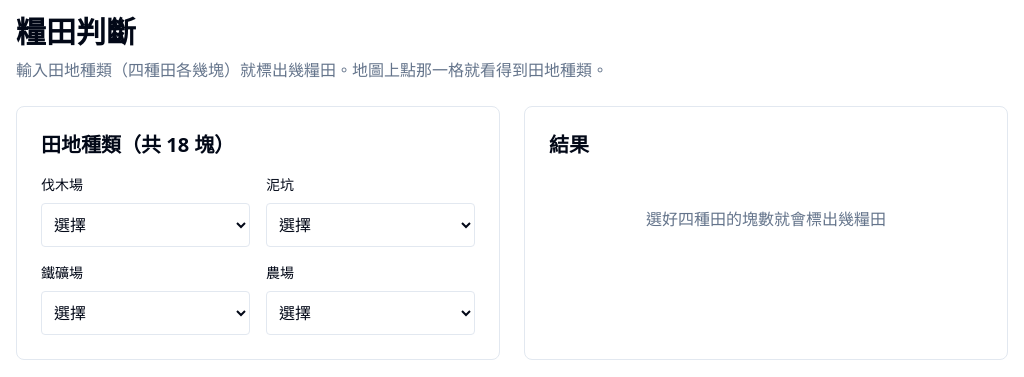
Test case: 糧田判斷（以前的「首都類型反推」，稽核 2026-10-10） › [3,3,3,9] → 9 糧田
Select "3 塊" in the dropdown with test id "wood" at (146, 225), box [41, 203, 250, 247]
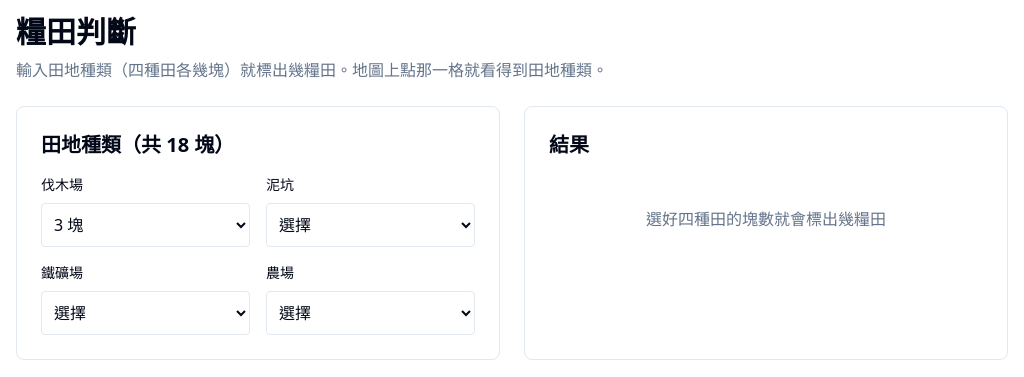
Select "3 塊" in the dropdown with test id "clay" at (370, 225), box [266, 203, 475, 247]
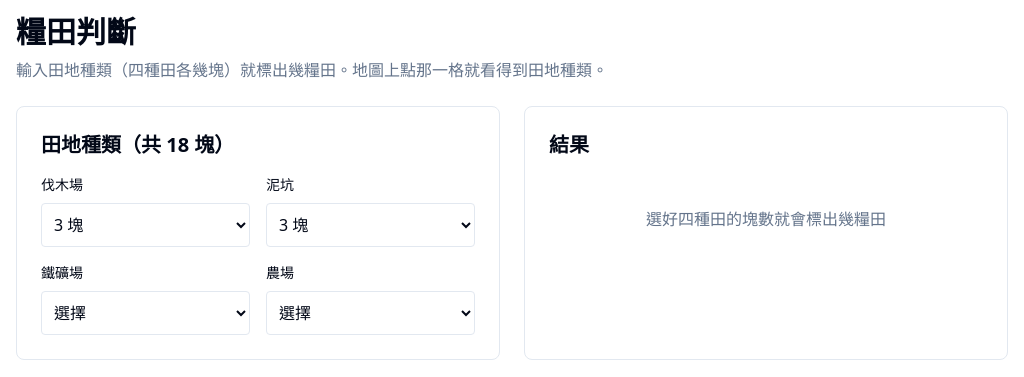
Select "3 塊" in the dropdown with test id "iron" at (146, 313), box [41, 291, 250, 335]
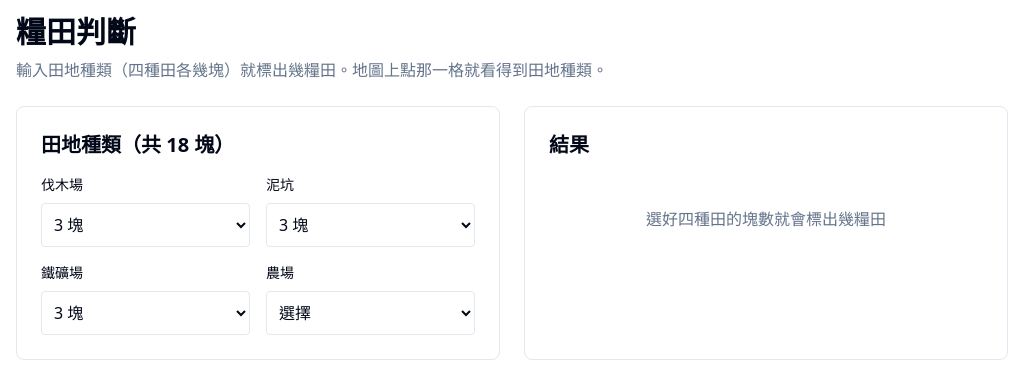
Select "9 塊" in the dropdown with test id "crop" at (370, 313), box [266, 291, 475, 335]
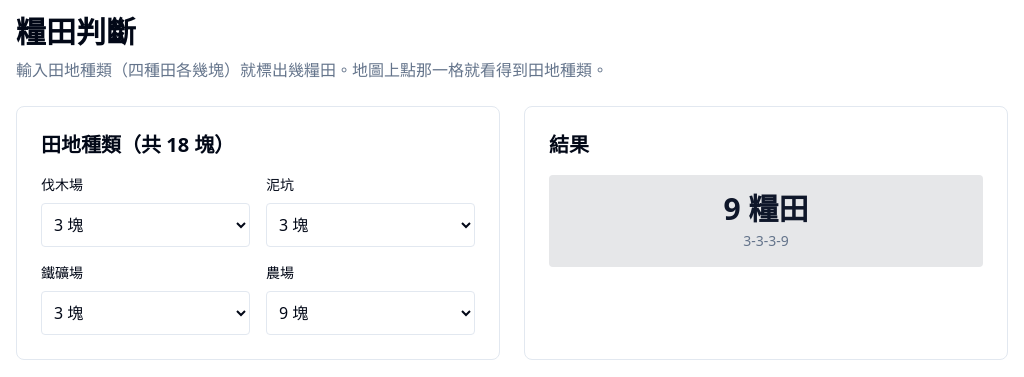
Expected: the text with test id "crop-fields-label" reads "9 糧田", [724, 188, 808, 229]
Expected: the element with test id "result" shows "3-3-3-9", [743, 231, 789, 250]
